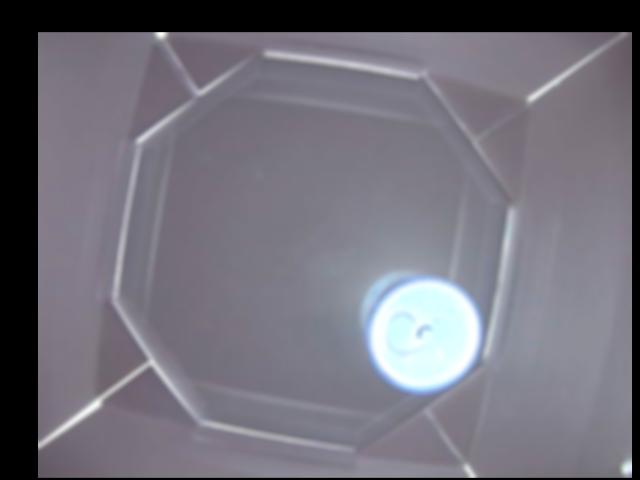Bottle: (361, 272, 480, 393)
